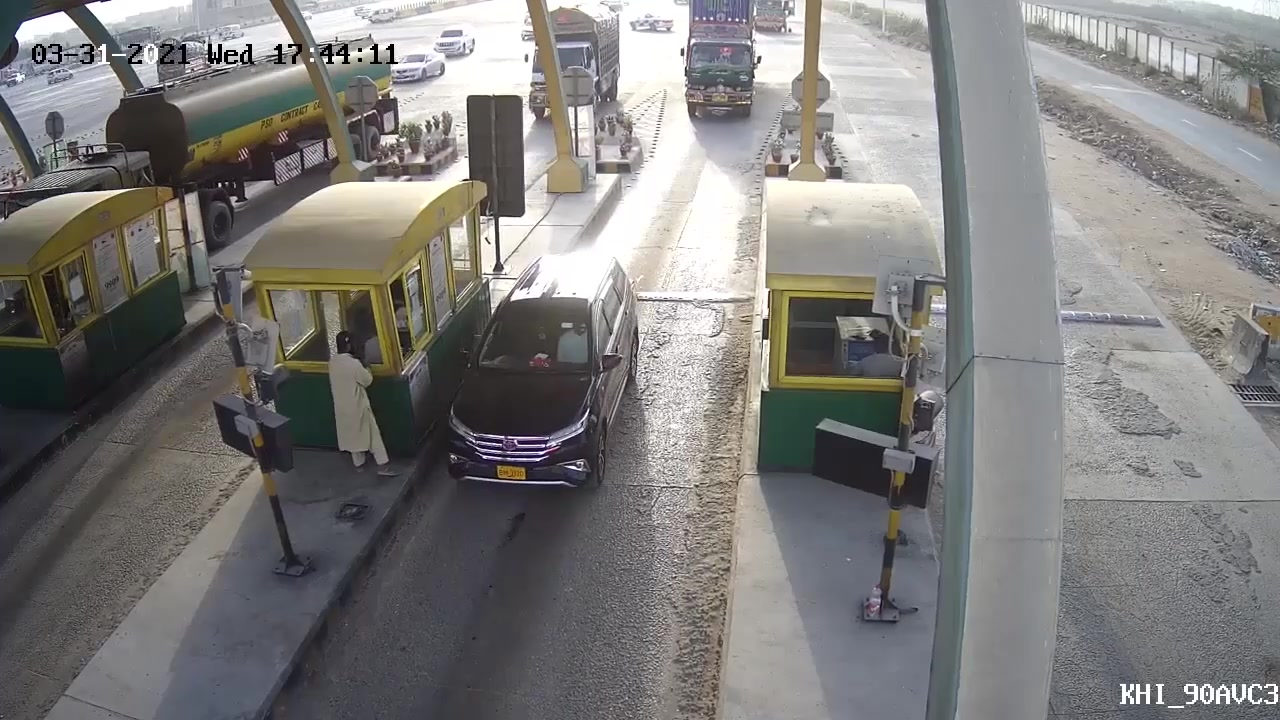F1: (438, 256, 640, 512)
